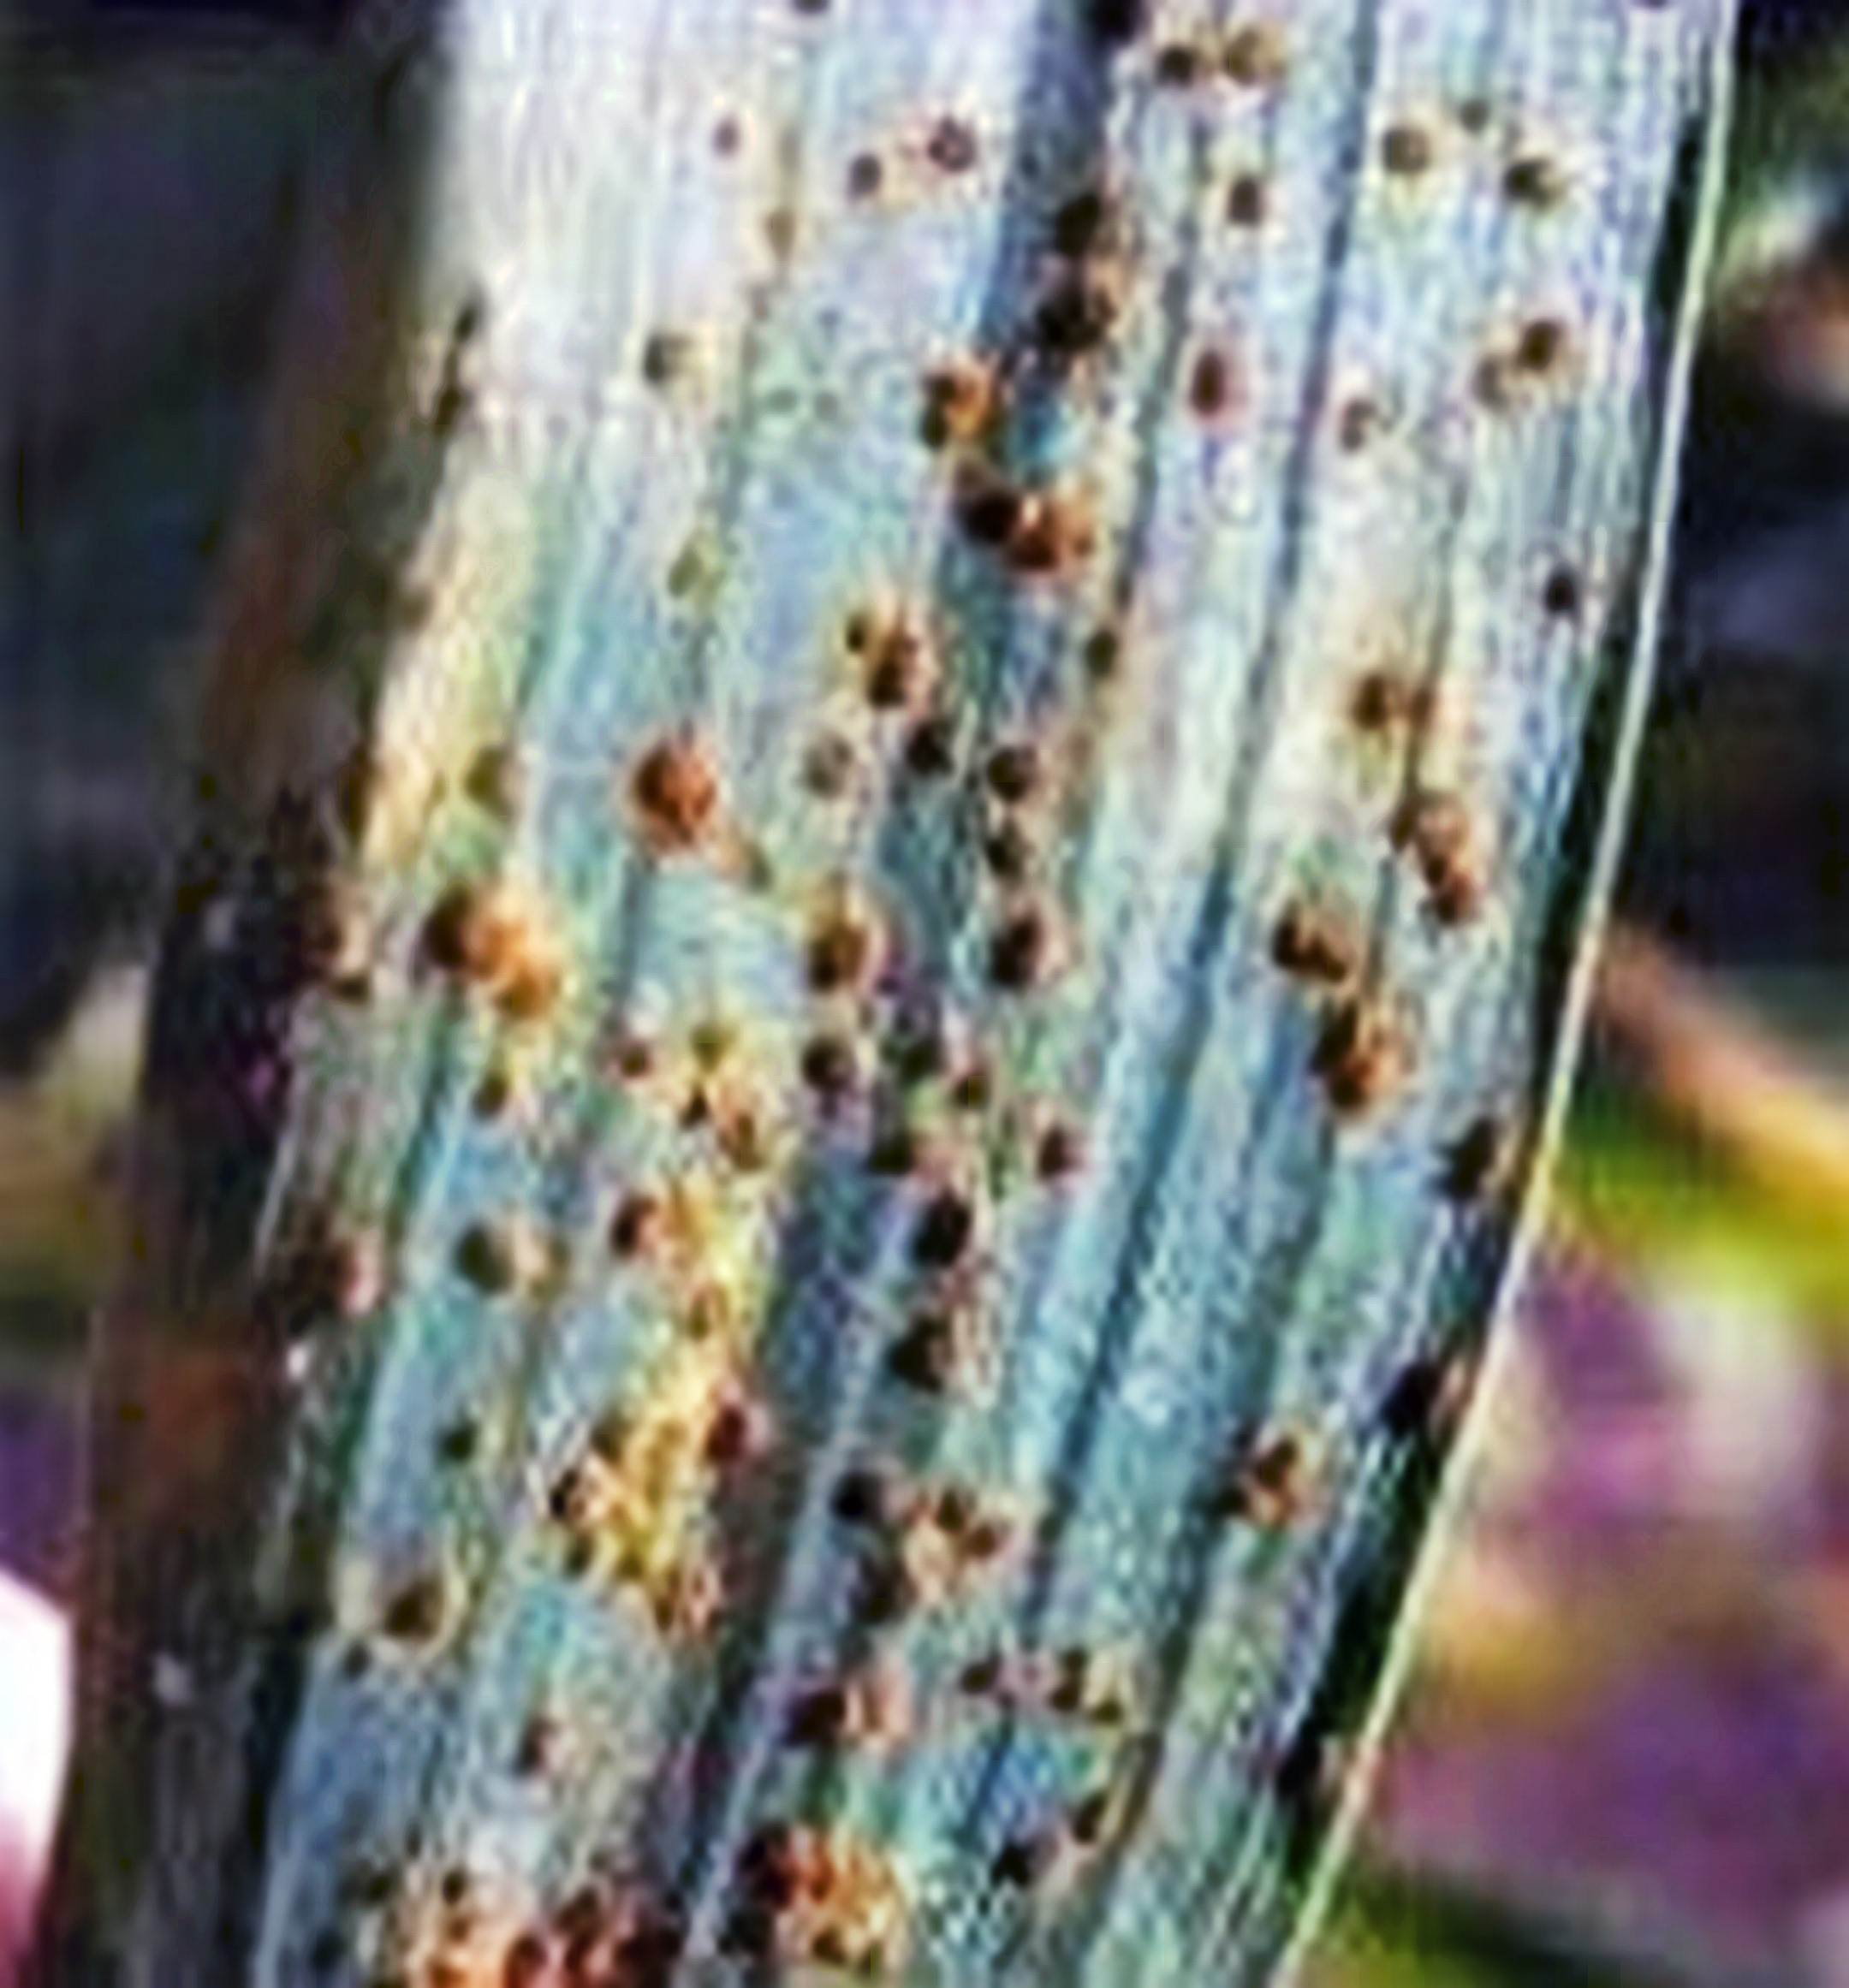Leaf Rust: (228, 499, 1637, 1880)
